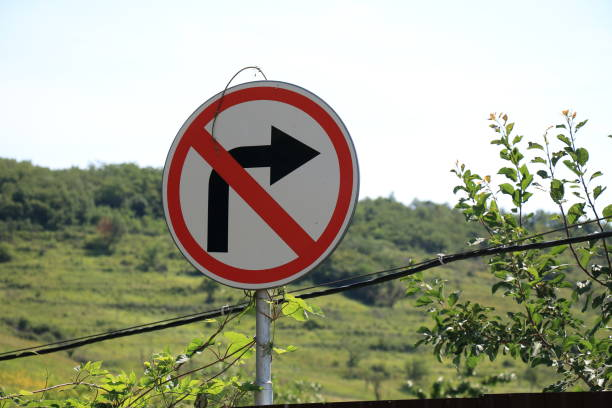saga_donulmez: (155, 76, 357, 287)
